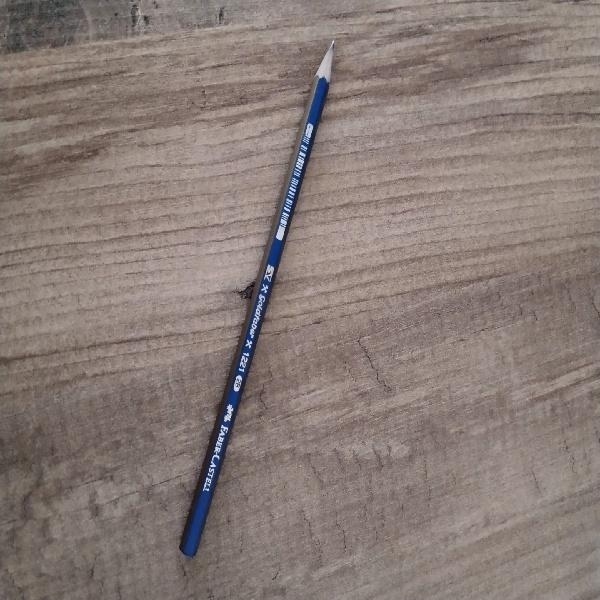pencil: (178, 29, 347, 566)
